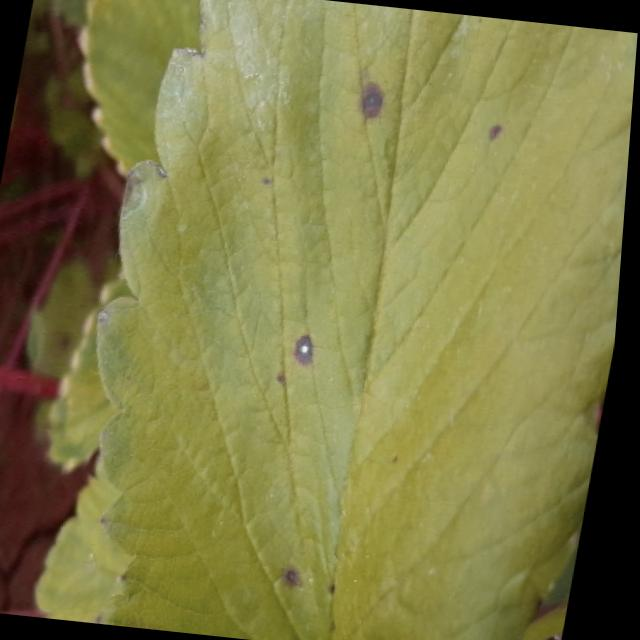Leaf Spot: (100, 0, 638, 640)
